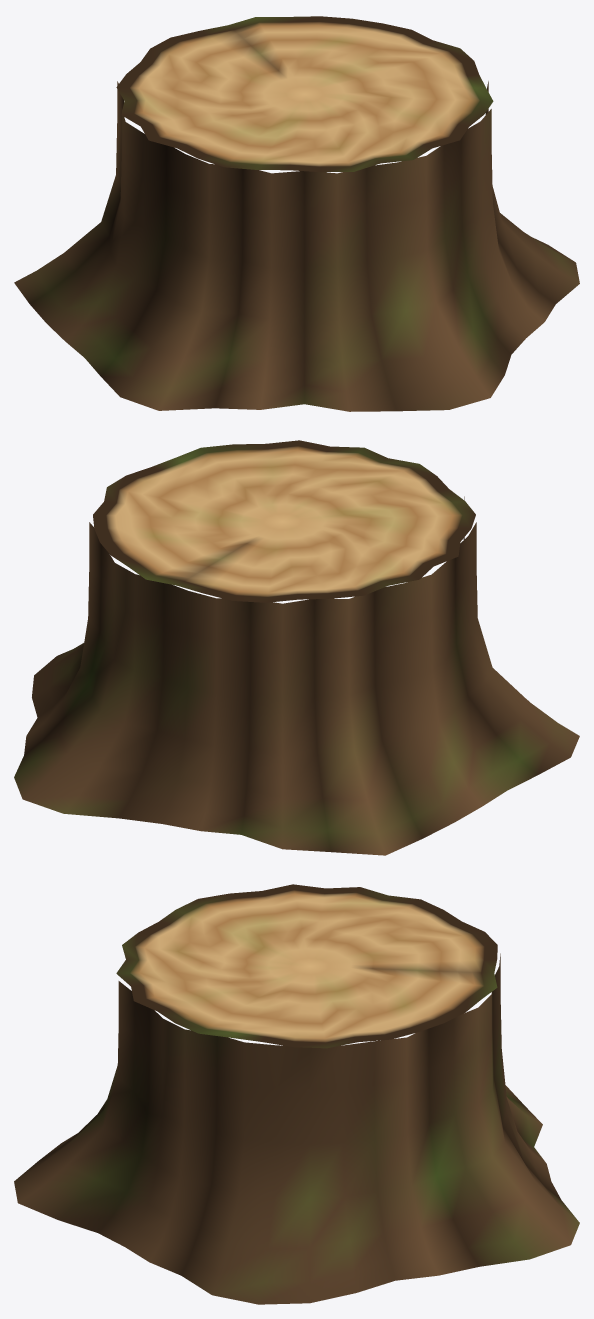
Rendered from stump.glb.
3 renders of one model, top to bottom at view 1: azimuth 30°, elevation 25°; view 2: azimuth 150°, elevation 25°; view 3: azimuth 270°, elevation 25°, orthographic. The views are drawn at different scales.
Visible parts, largest first — view 1: stump; view 2: stump; view 3: stump.
Part boxes in pixels (x1,y1,x2,y2): stump: (14, 16, 579, 411); stump: (14, 440, 579, 855); stump: (14, 884, 579, 1304).
Bounding box in the file's own units: 2.39 × 1 × 2.39.
